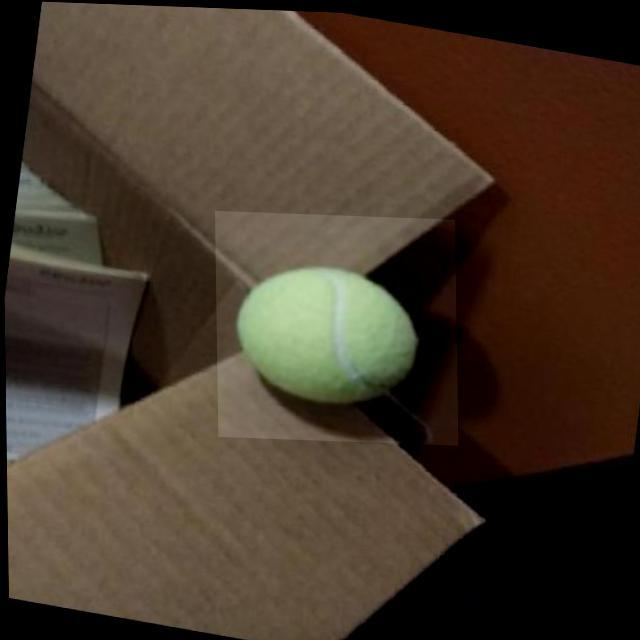-: (214, 209, 457, 442)
